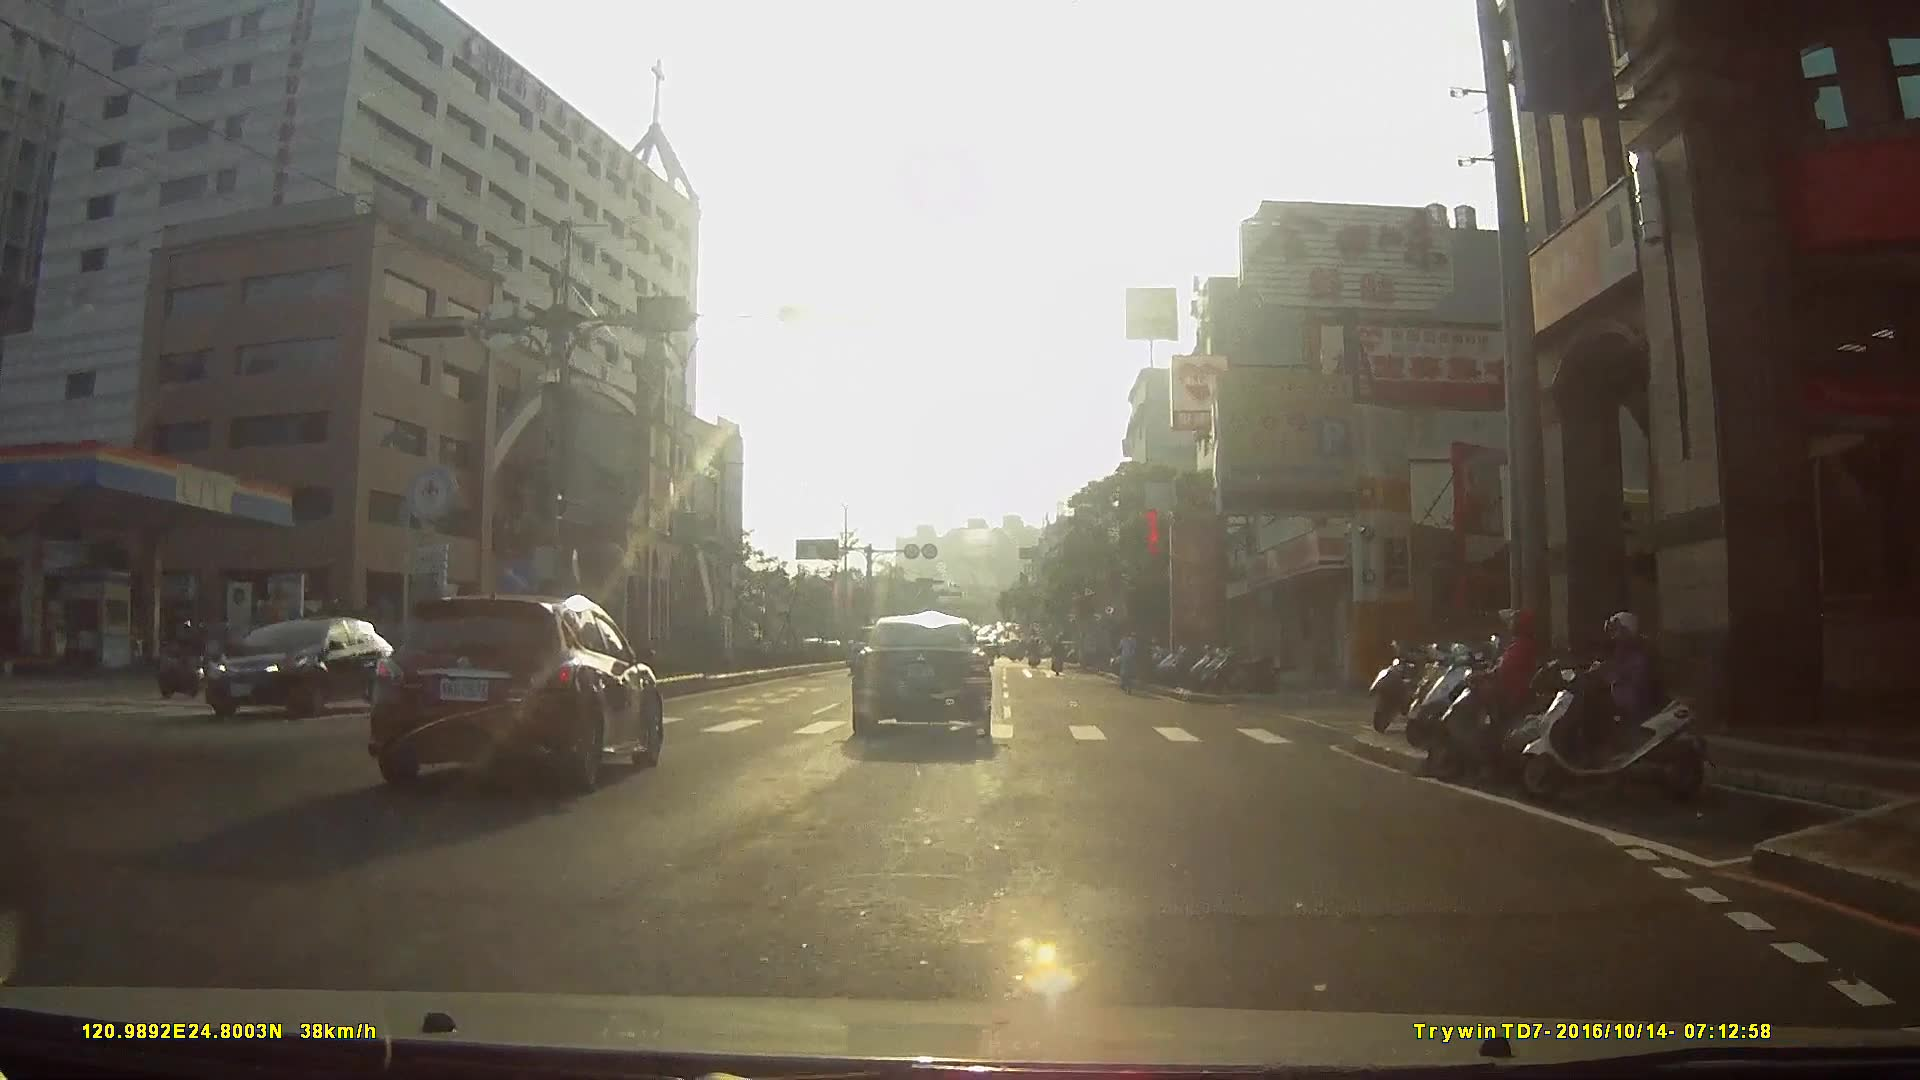rider: (1508, 608, 1719, 809), (1423, 601, 1607, 794), (158, 620, 203, 700), (1115, 626, 1143, 698)
vehicle: (370, 578, 677, 796), (195, 608, 413, 724), (845, 607, 998, 740), (763, 607, 822, 662)
